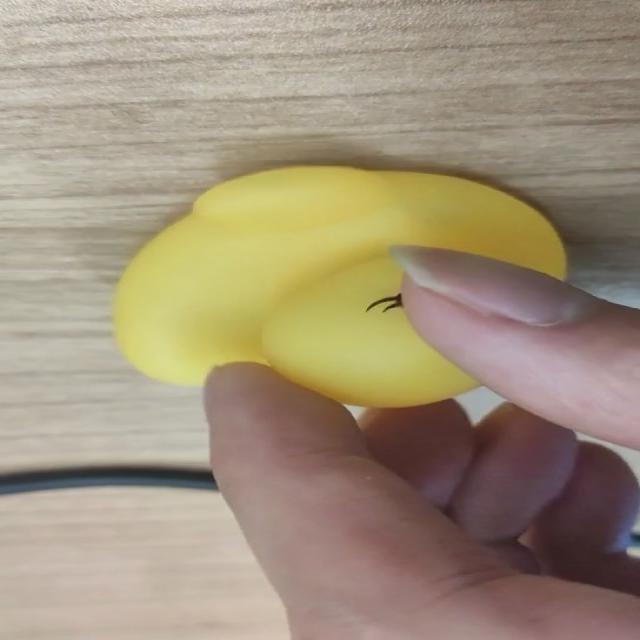rubber-duck: (112, 165, 564, 405)
